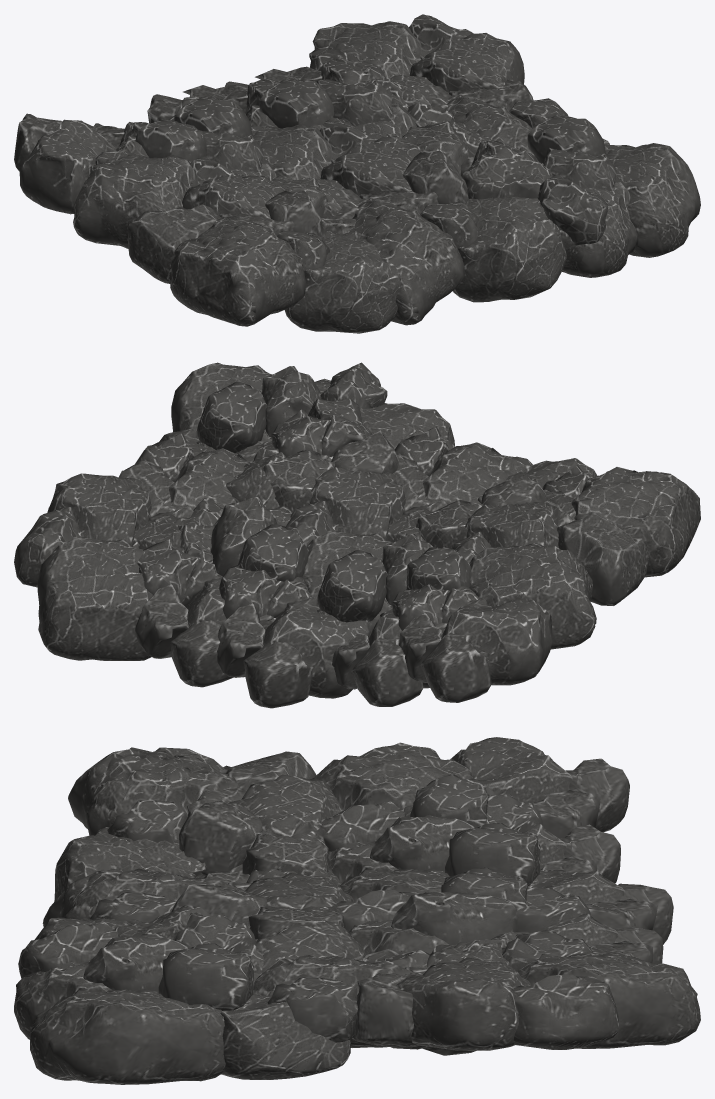
Rendered from Pit_floor.fbx.
3 views of the same model, one above another, from view 1: azimuth 30°, elevation 25°; view 2: azimuth 150°, elevation 25°; view 3: azimuth 270°, elevation 25° (orthographic). The views are drawn at different scales.
Visible parts, largest first — view 1: pit_floor; view 2: pit_floor; view 3: pit_floor.
Part boxes in pixels (left/top/right/bottom): pit_floor: left=14, top=14, right=700, bottom=333; pit_floor: left=14, top=362, right=700, bottom=708; pit_floor: left=14, top=737, right=700, bottom=1084.
Size of the model in its own units: 353 by 77.44 by 349.
Materials: 1 (1 with a texture image).
